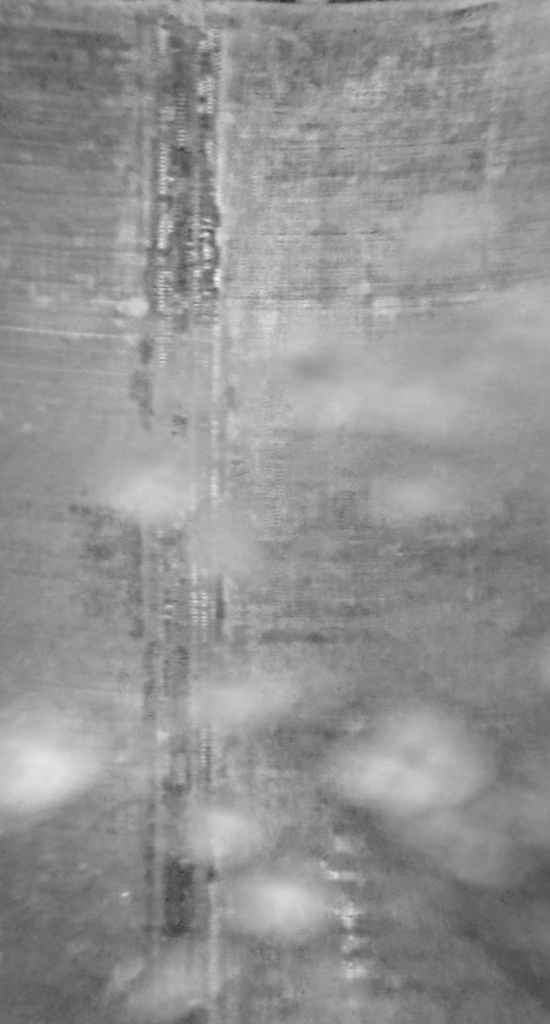splice: (129, 1, 226, 1023)
